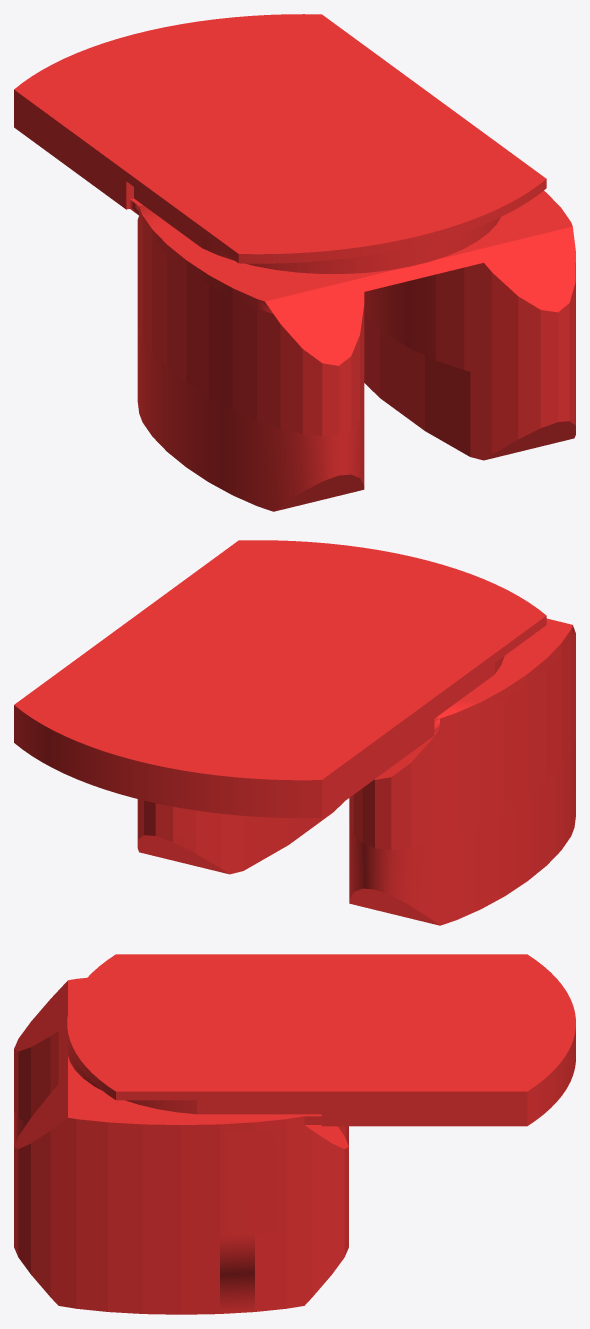
File: vozik_210714.FBX
The picture shows the model from 3 angles, top to bottom: view 1: azimuth 30°, elevation 25°; view 2: azimuth 150°, elevation 25°; view 3: azimuth 270°, elevation 25°; orthographic projection. The views are drawn at different scales.
Visible parts, largest first — view 1: Ellipse003, Arc005, Arc007, Arc006, Line133; view 2: Arc005, Ellipse003, Arc006, Arc007; view 3: Ellipse003, Arc005, Arc006, Arc007, Line133.
Boxes of the visible parts, x1,y1,x2,y2 form: Ellipse003: [129, 190, 575, 511]; Arc005: [14, 14, 546, 263]; Arc007: [134, 187, 500, 273]; Arc006: [14, 99, 133, 209]; Line133: [364, 248, 483, 291]; Arc005: [14, 540, 546, 789]; Ellipse003: [137, 618, 575, 925]; Arc006: [14, 707, 434, 818]; Arc007: [434, 656, 504, 718]; Ellipse003: [14, 977, 348, 1314]; Arc005: [67, 954, 575, 1100]; Arc006: [321, 1036, 575, 1126]; Arc007: [67, 1037, 321, 1114]; Line133: [58, 1025, 75, 1083].
Bounding box in the file's own units: 0.1882 × 0.1243 × 0.2936.
